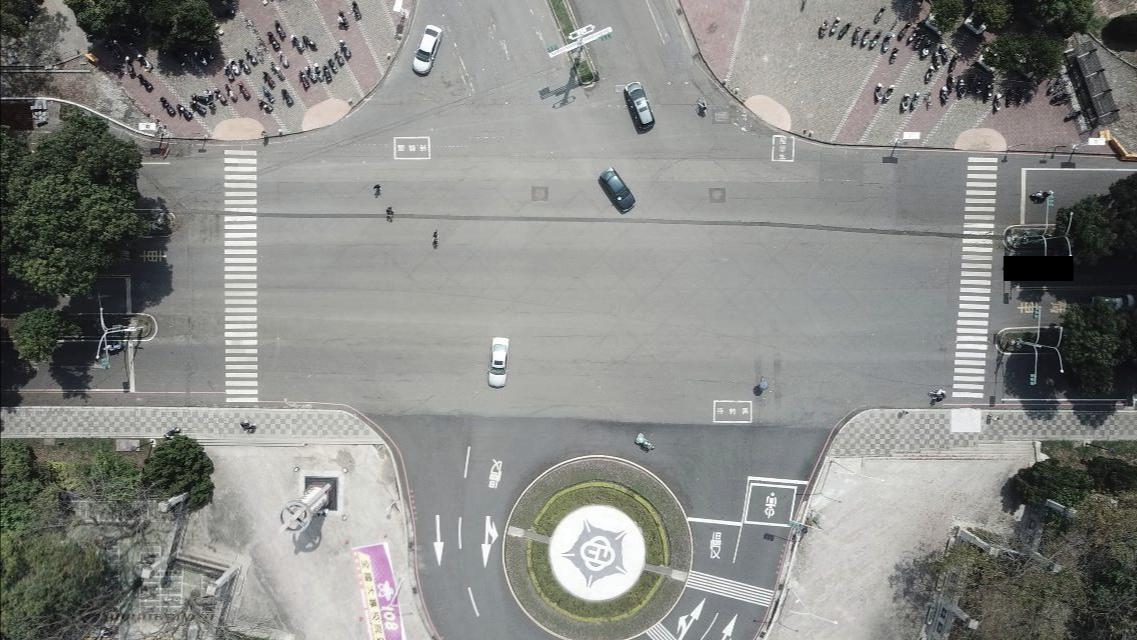vehicle: (409, 24, 446, 78), (601, 166, 638, 214), (624, 79, 656, 133), (485, 335, 512, 389), (1086, 291, 1136, 312)
